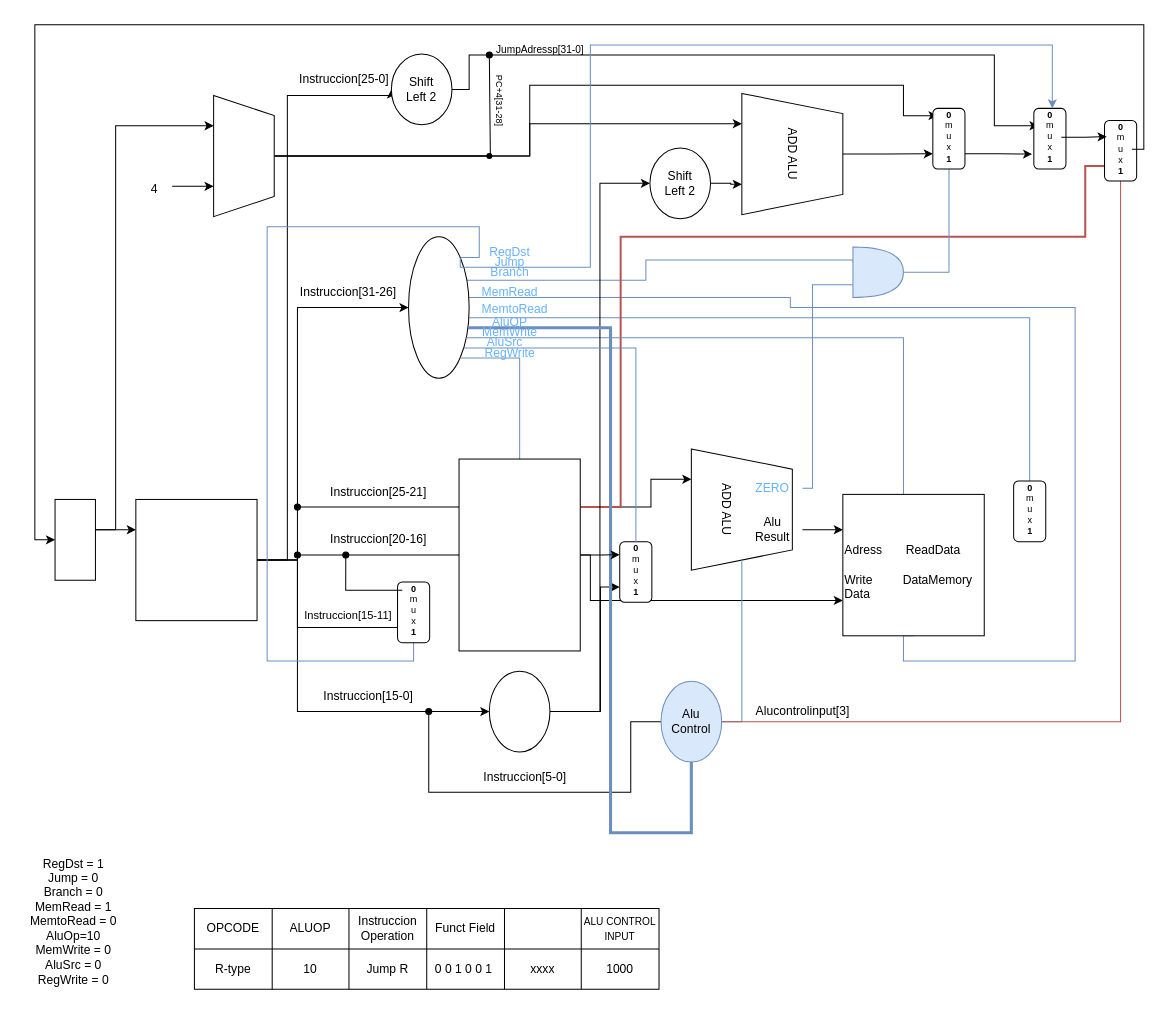
This 1170x1027 diagram has some shape labels left out. Here are the shapes that lost their labels. From the top down, the centre of each, then its label:
the point at 243,155: ADD
the point at 438,307: Control
the point at 74,539: PC
the point at 196,559: ReadAddres Instruccion[31 -0] Intruccion Memory
the point at 519,554: Read Registar 1 ReadData1 Read Register 2 ReadData2 Write Register Write Date
the point at 519,711: Signed- Extend
